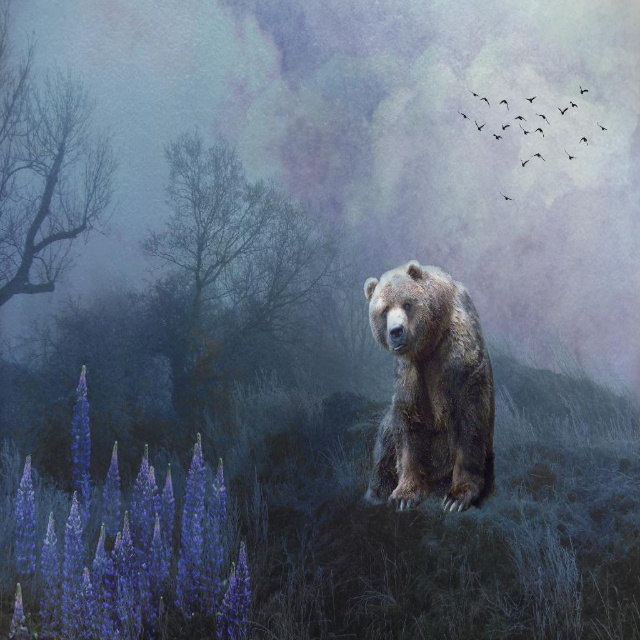Brown bear: (366, 256, 497, 510)
